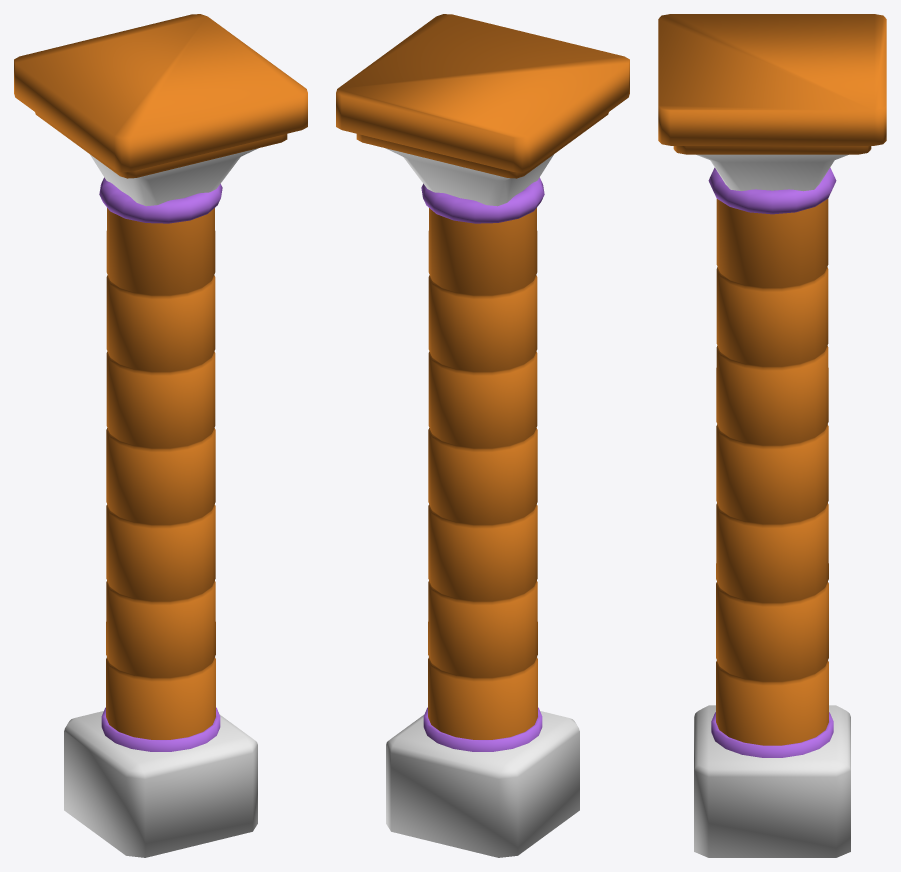
File: Pillar_F.fbx
3 renders of one model, left to right at view 1: azimuth 30°, elevation 25°; view 2: azimuth 150°, elevation 25°; view 3: azimuth 270°, elevation 25°, orthographic. The views are drawn at different scales.
Parts seen in each view (by area): view 1: Pillar_F; view 2: Pillar_F; view 3: Pillar_F.
Boxes of the visible parts, x1,y1,x2,y2 form: Pillar_F: [14, 14, 307, 857]; Pillar_F: [336, 14, 629, 857]; Pillar_F: [658, 14, 886, 857].
Bounding box in the file's own units: 2.22 × 2.22 × 8.18.
